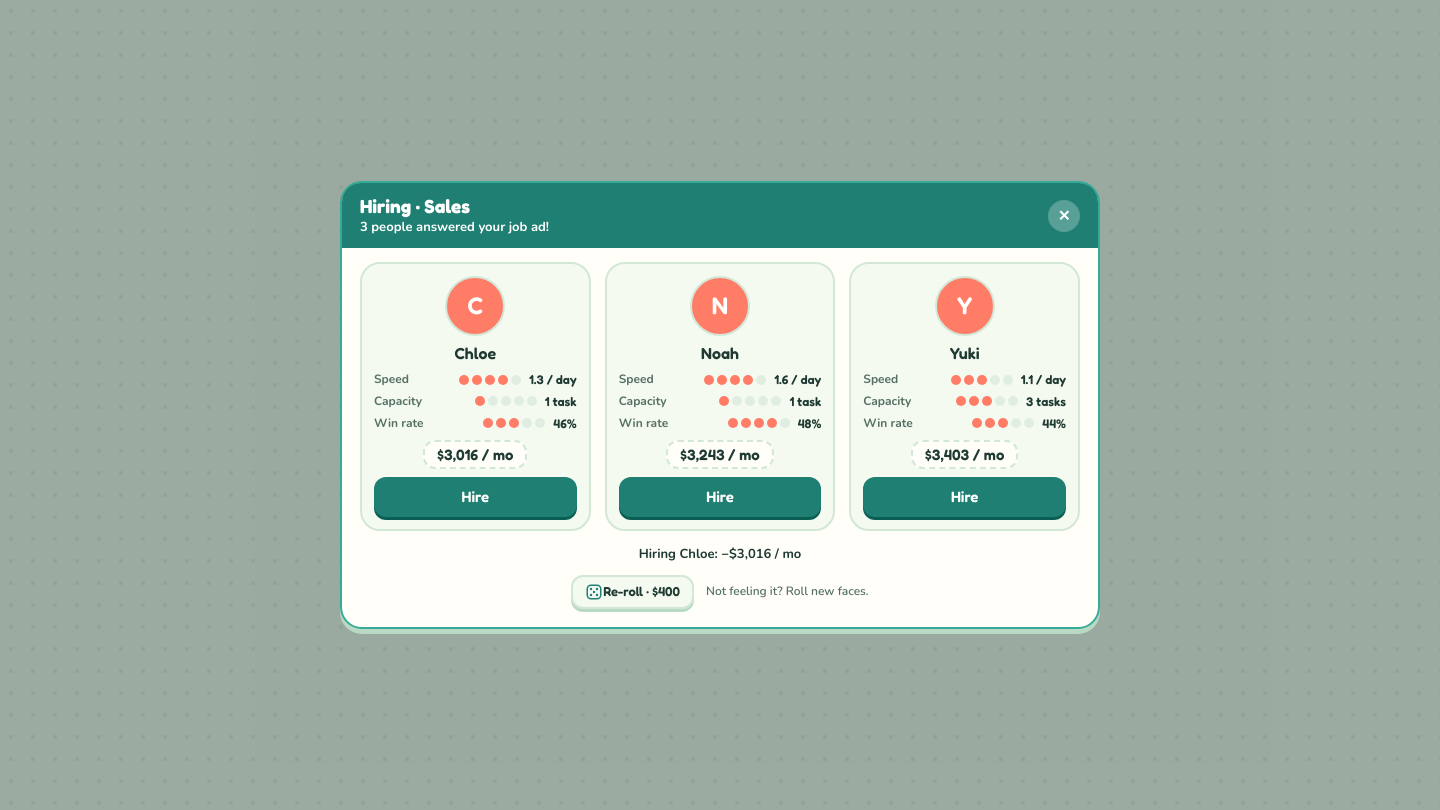
Test case: HiringDialog › after a hire it confirms the name, keeps focus inside, and Re-roll still works
The width and height of the screenshot is (1440, 810).
Click the button "Hire" below "1.3 / day": [475, 497] box [374,477,577,517]
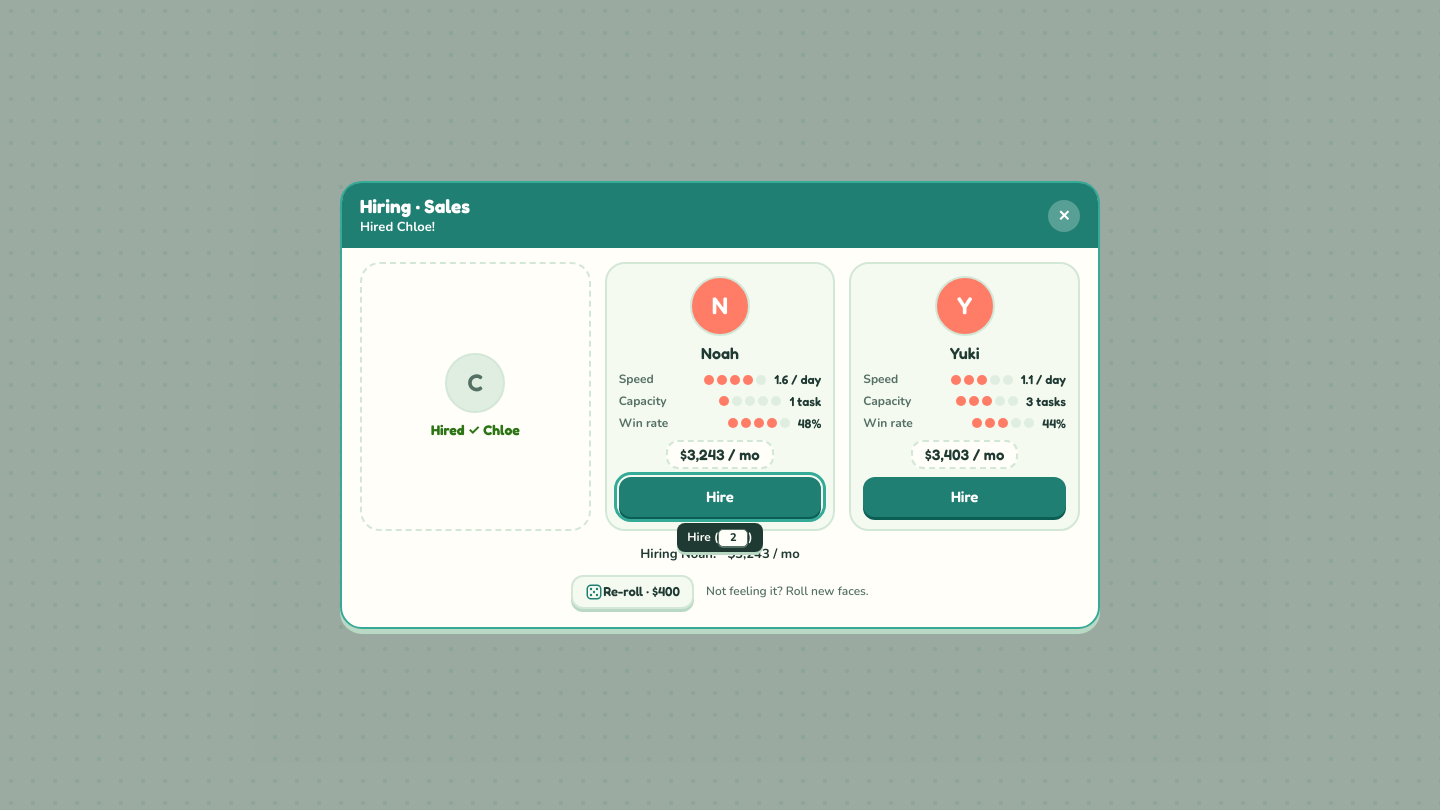
Click the button "Re-roll · $400": [633, 592] box [571,575,694,609]
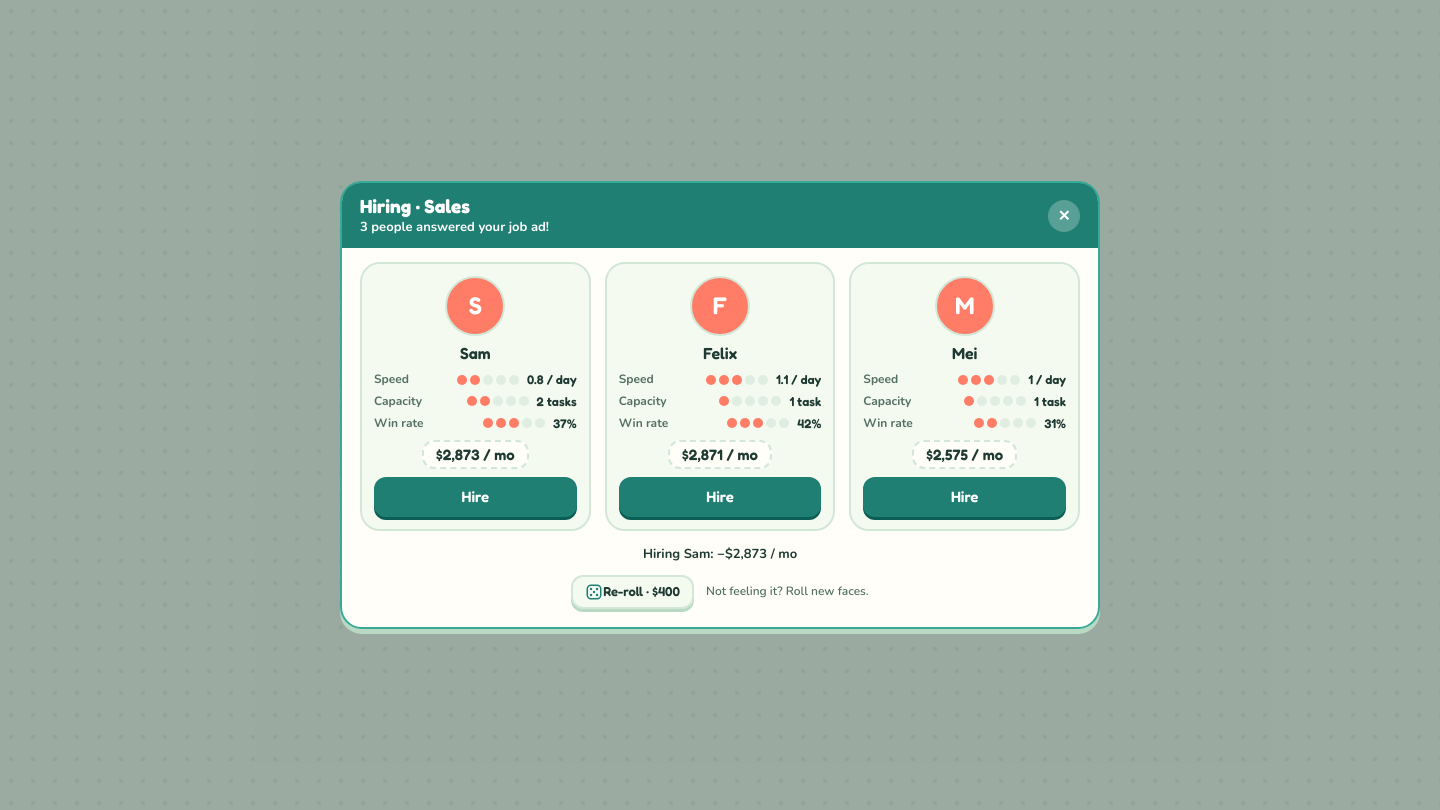
Check: the number of buttons "Hire" is 3, box [374,477,577,517]; [619,477,821,517]; [863,477,1066,517]
Check: the message reads "3 people answered your job ad!", box [360,218,549,236]
